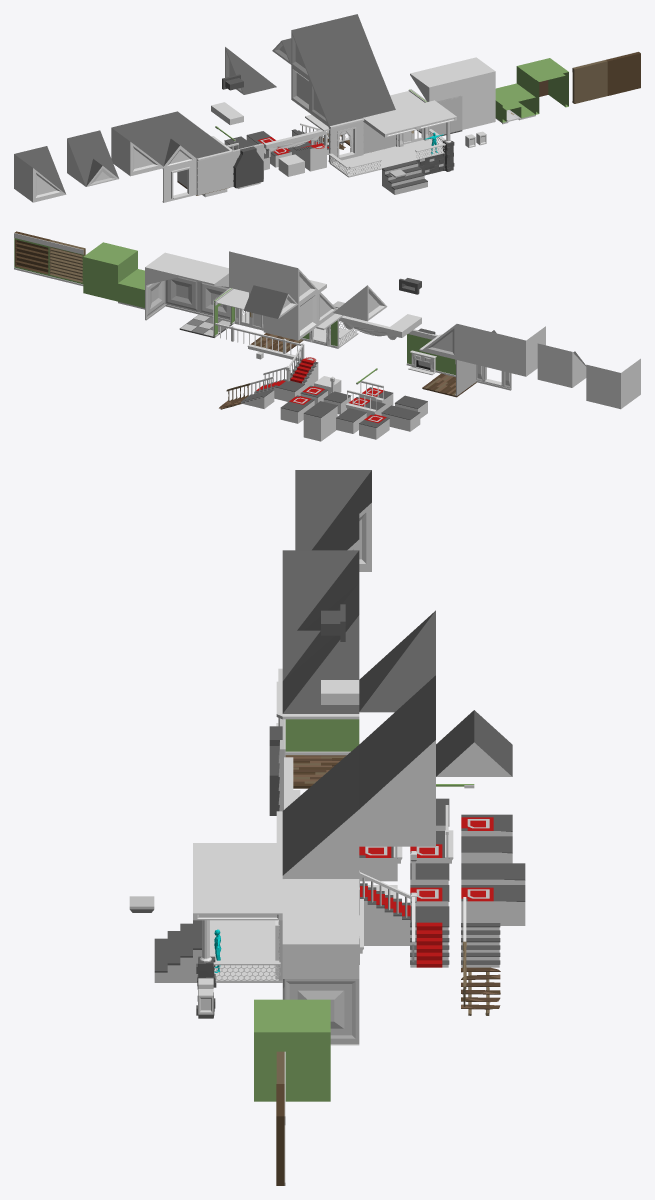
The model's file is Pemberley Parts.fbx.
The picture shows the model from 3 angles, top to bottom: view 1: azimuth 30°, elevation 25°; view 2: azimuth 150°, elevation 25°; view 3: azimuth 270°, elevation 25°; orthographic projection. The views are drawn at different scales.
Visible parts, largest first — view 1: Roof 1 Ornate, Roof Corner, Roof 2 Ornate, Roof Corner 2, Roof Corner 2.001, Large Closet, Roof 2, Roof Corner 2.002, Roof 1, Vaulted Ceiling, Bultins, Shelves 2 (+30 smaller); view 2: Large Closet, Roof Corner 2, Roof Corner, Decorative Interior Conrer, Roof Corner 2.001, Ornate Cube, Roof 2 Ornate, Bultins, Shelves 2, Roof Corner 2.002, Roof 2, Roof Peak (+33 smaller); view 3: Large Closet, Roof Corner 2, Roof 1, Roof 2, Vaulted Ceiling Corner, Roof Corner, Roof 1 Ornate.001, Roof 2 Ornate.001, Porch Roof, Roof Peak, Decorative Interior Conrer, Porch Roof Side (+23 smaller).
Boxes of the visible parts, x1,y1,x2,y2 form: Roof 1 Ornate: [310, 71, 364, 128]; Roof Corner: [111, 119, 163, 176]; Roof 2 Ornate: [291, 22, 343, 78]; Roof Corner 2: [14, 146, 66, 202]; Roof Corner 2.001: [67, 130, 118, 186]; Large Closet: [516, 58, 568, 114]; Roof 2: [324, 14, 376, 70]; Roof Corner 2.002: [144, 111, 196, 167]; Roof 1: [344, 63, 395, 117]; Vaulted Ceiling: [410, 65, 462, 101]; Bultins: [572, 59, 607, 103]; Shelves 2: [606, 51, 640, 95]; Large Closet: [83, 242, 137, 301]; Roof Corner 2: [586, 358, 640, 409]; Roof Corner: [491, 326, 545, 376]; Decorative Interior Conrer: [145, 277, 198, 320]; Roof Corner 2.001: [537, 343, 586, 387]; Ornate Cube: [263, 290, 318, 340]; Roof 2 Ornate: [263, 260, 317, 304]; Bultins: [48, 240, 85, 285]; Shelves 2: [14, 231, 50, 277]; Roof Corner 2.002: [457, 324, 496, 367]; Roof 2: [229, 251, 263, 292]; Roof Peak: [243, 285, 297, 318]; Large Closet: [254, 999, 330, 1101]; Roof Corner 2: [295, 470, 371, 571]; Roof 1: [282, 777, 359, 878]; Roof 2: [359, 708, 435, 809]; Vaulted Ceiling Corner: [282, 912, 359, 978]; Roof Corner: [282, 550, 359, 630]; Roof 1 Ornate.001: [276, 615, 359, 719]; Roof 2 Ornate.001: [359, 610, 435, 712]; Porch Roof: [193, 875, 282, 920]; Roof Peak: [436, 710, 512, 776]; Decorative Interior Conrer: [282, 979, 359, 1045]; Porch Roof Side: [193, 843, 282, 875].
Bounding box in the file's own units: 10900 × 2430 × 3097.
